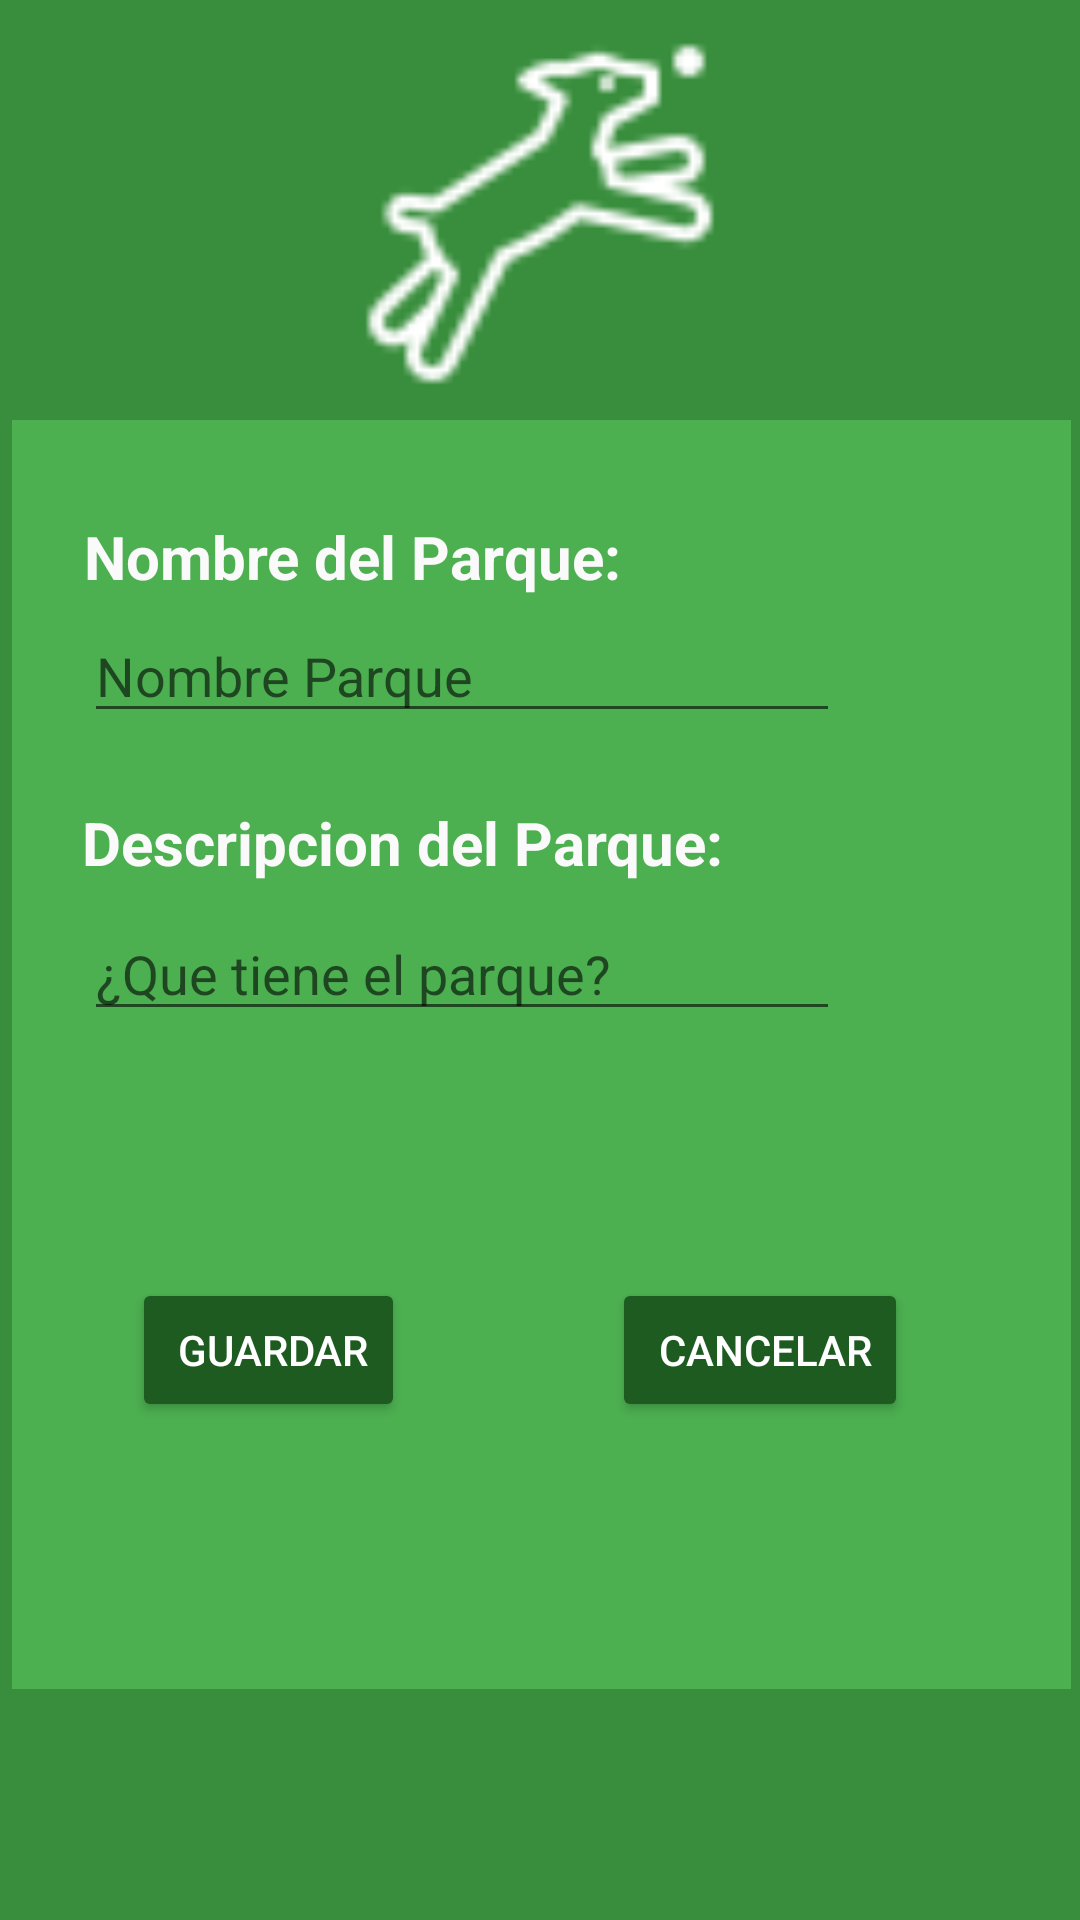

Icons on this 1080×1920 Android screen, each with the point to tap as (x,y):
parqueperros: (540,214)
